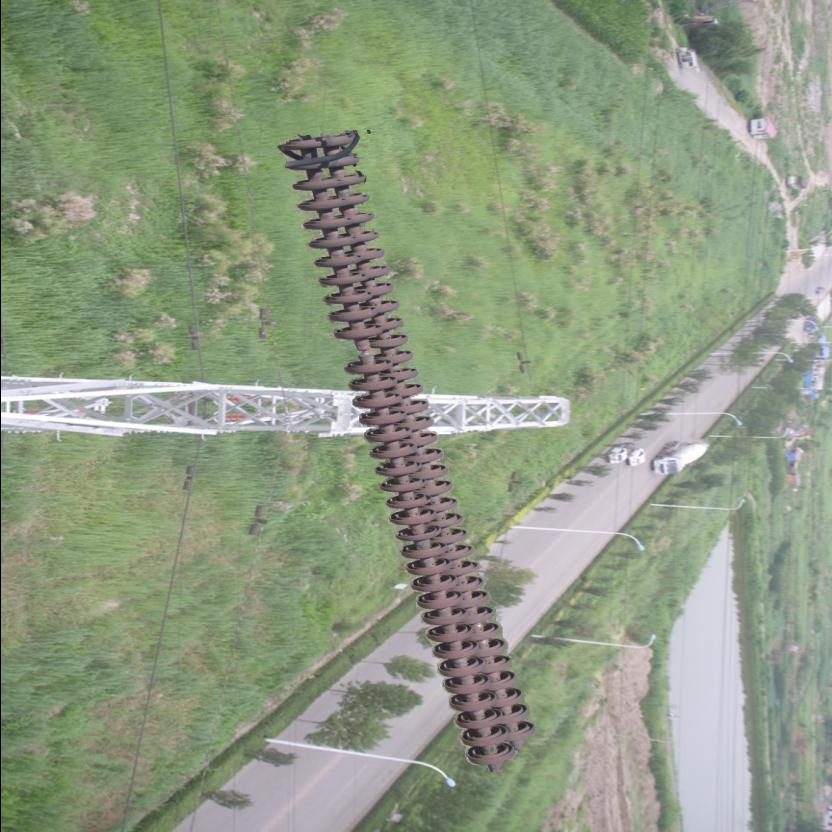defect: (331, 322, 393, 378)
